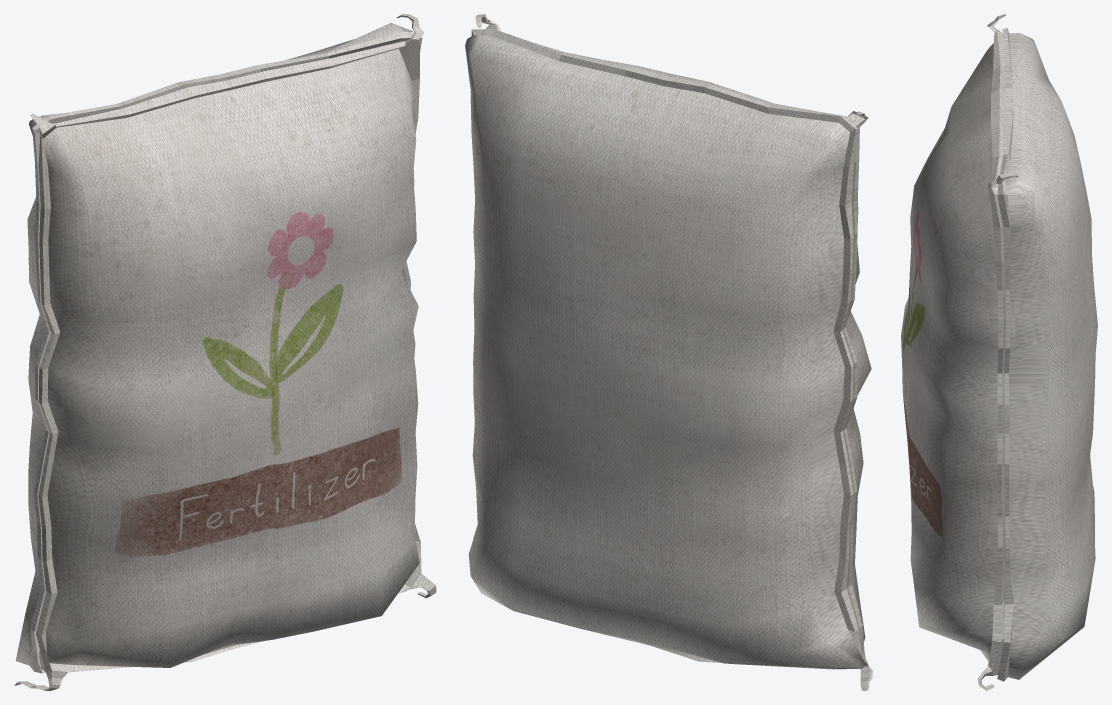
File: fertilizer.fbx
The picture shows the model from 3 angles, left to right: view 1: azimuth 30°, elevation 25°; view 2: azimuth 150°, elevation 25°; view 3: azimuth 270°, elevation 25°; orthographic projection. The views are drawn at different scales.
Parts seen in each view (by area): view 1: fertilizer; view 2: fertilizer; view 3: fertilizer.
Boxes of the visible parts, x1,y1,x2,y2 form: fertilizer: (14, 14, 436, 690); fertilizer: (465, 14, 872, 690); fertilizer: (901, 14, 1097, 690).
Bounding box in the file's own units: 8.65 × 12.03 × 4.1.
1 material, 1 textured.
